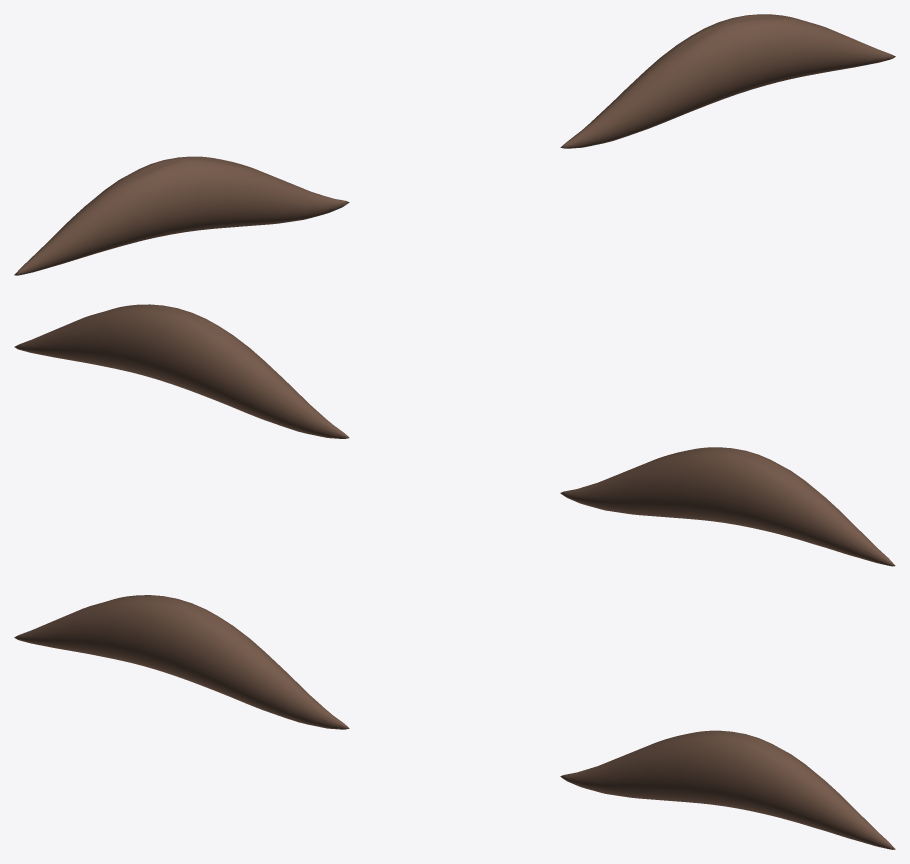
Rendered from chef_cejas.glb.
3 views of the same model, one above another, from view 1: azimuth 30°, elevation 25°; view 2: azimuth 150°, elevation 25°; view 3: azimuth 330°, elevation 25° (orthographic).
Parts seen in each view (by area): view 1: CejaL, CejaR; view 2: CejaL, CejaR; view 3: CejaR, CejaL.
Boxes of the visible parts, x1,y1,x2,y2 form: CejaL: (560,14,895,148); CejaR: (14,156,349,275); CejaL: (14,304,349,438); CejaR: (560,447,895,566); CejaR: (14,595,349,729); CejaL: (560,730,895,849).
Bounding box in the file's own units: 0.1732 × 0.0174 × 0.0107.
